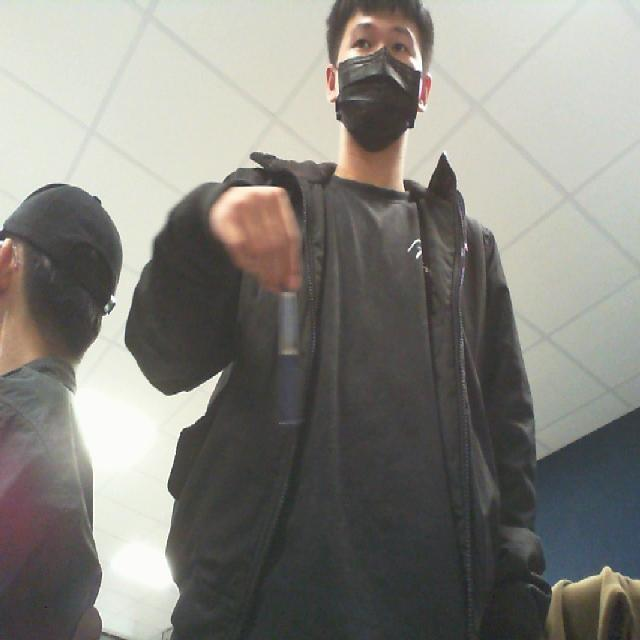Pen: (262, 258, 314, 443)
